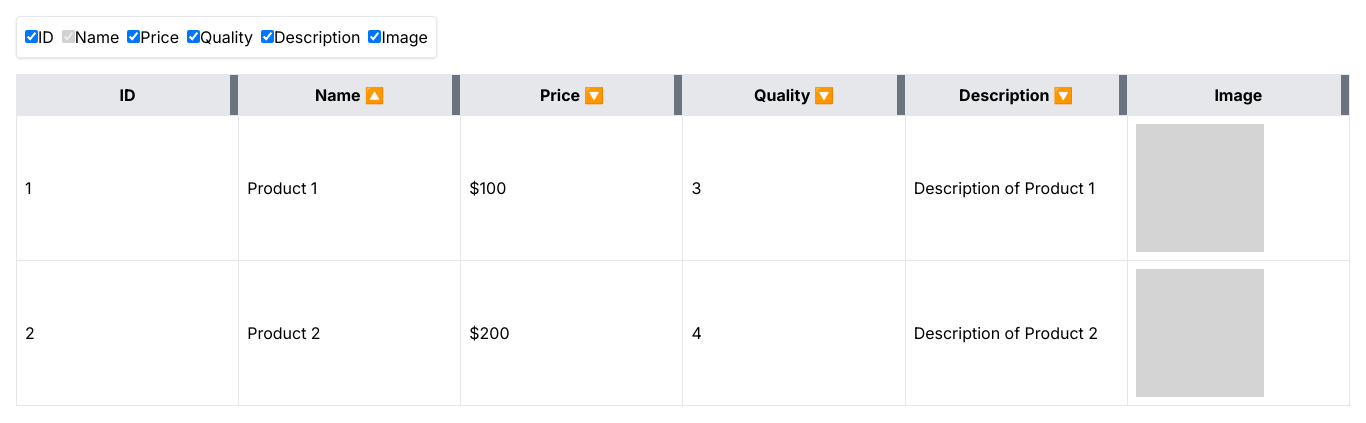
Scenario: Product Table Component › description column hides on clicking description button from hide/show panel
Expected: the text "Description of Product 1" is shown, [905, 116, 1127, 260]
Expected: the text "Description of Product 2" is shown, [905, 260, 1127, 406]
Click the text "Description" at (311, 37), box [261, 25, 360, 49]
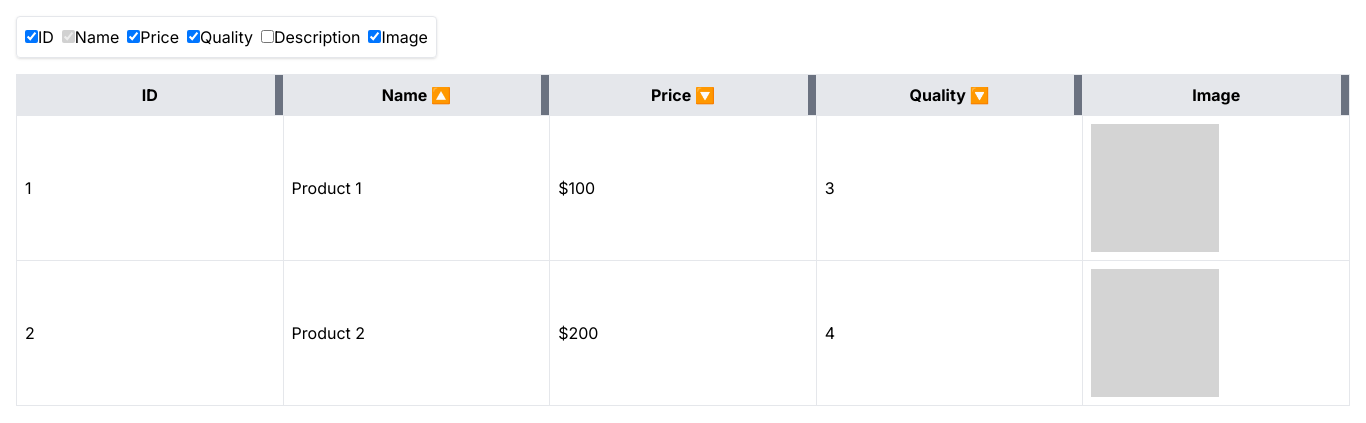
Now the text "Description of Product 1" is gone
Now the text "Description of Product 2" is gone
